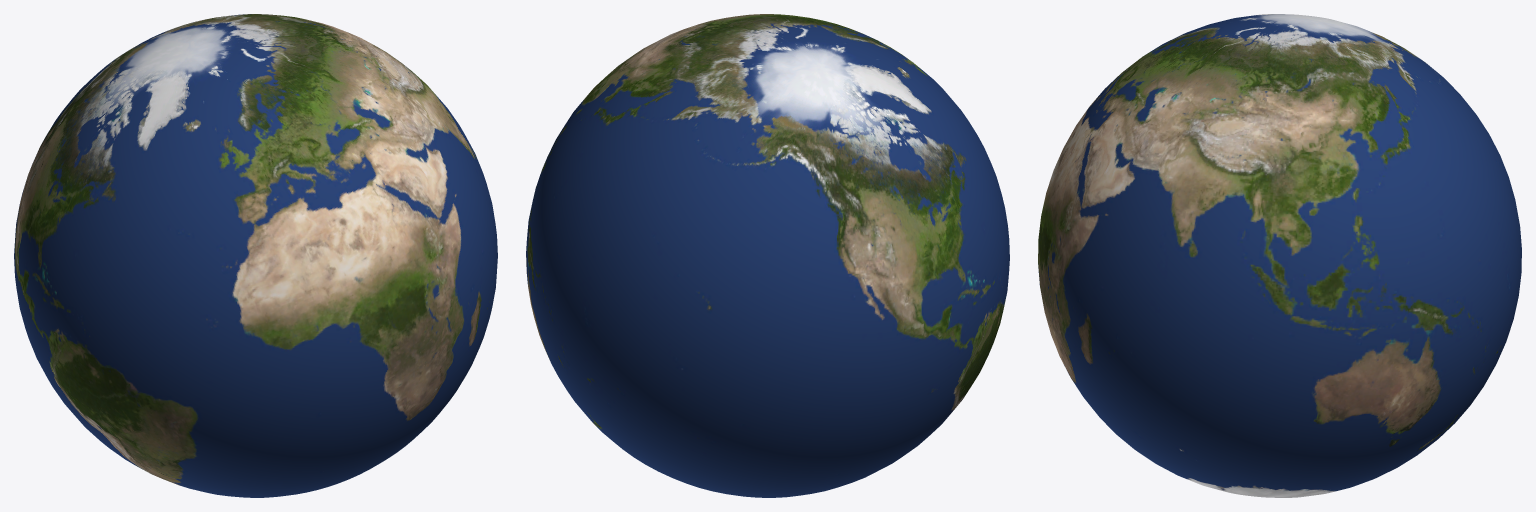
Rendered from Earth.obj.
3 views of the same model, side by side, from view 1: azimuth 30°, elevation 25°; view 2: azimuth 150°, elevation 25°; view 3: azimuth 270°, elevation 25° (orthographic).
Visible parts, largest first — view 1: Earth; view 2: Earth; view 3: Earth.
Part boxes in pixels (left/top/right/bottom): Earth: left=14, top=14, right=497, bottom=497; Earth: left=526, top=14, right=1009, bottom=497; Earth: left=1038, top=14, right=1521, bottom=497.
Size of the model in its own units: 3 by 3 by 3.
